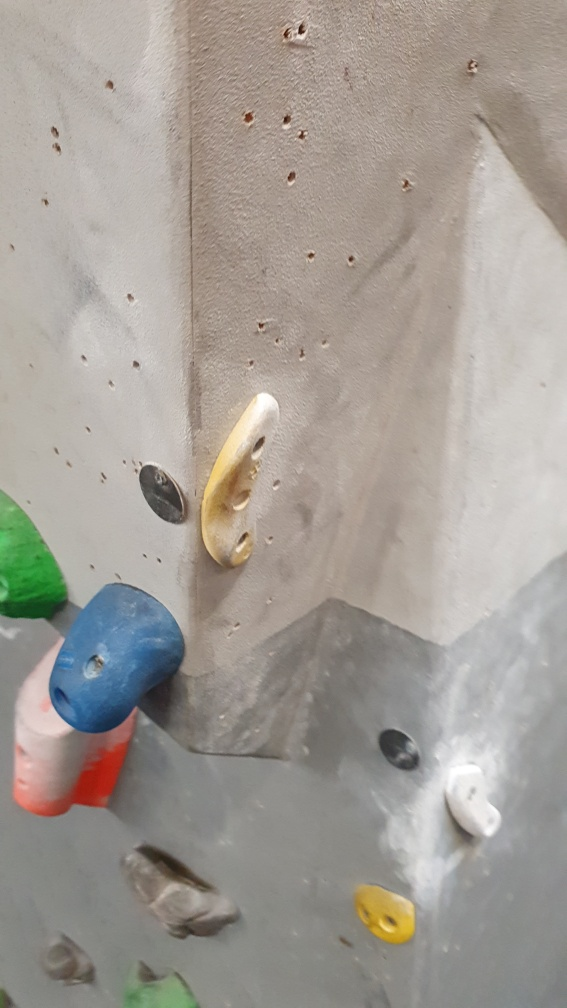Hand Start: (138, 462, 190, 534), (371, 719, 428, 776)
Jug: (116, 839, 247, 942)
Pinch: (10, 631, 135, 817)
